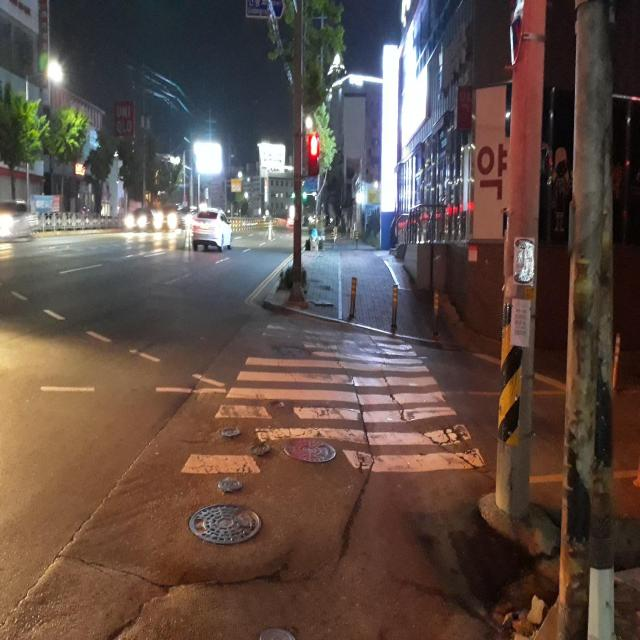빨간불: (308, 130, 321, 182)
횡단보도: (180, 319, 487, 477)
